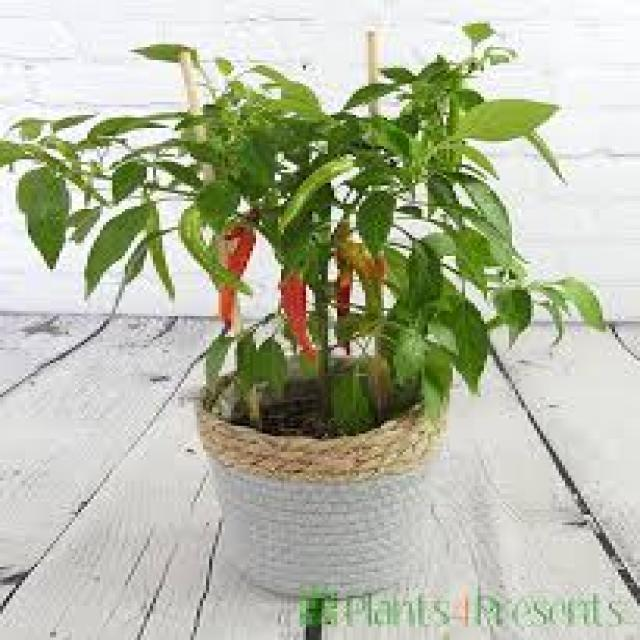plant: (1, 23, 602, 586)
